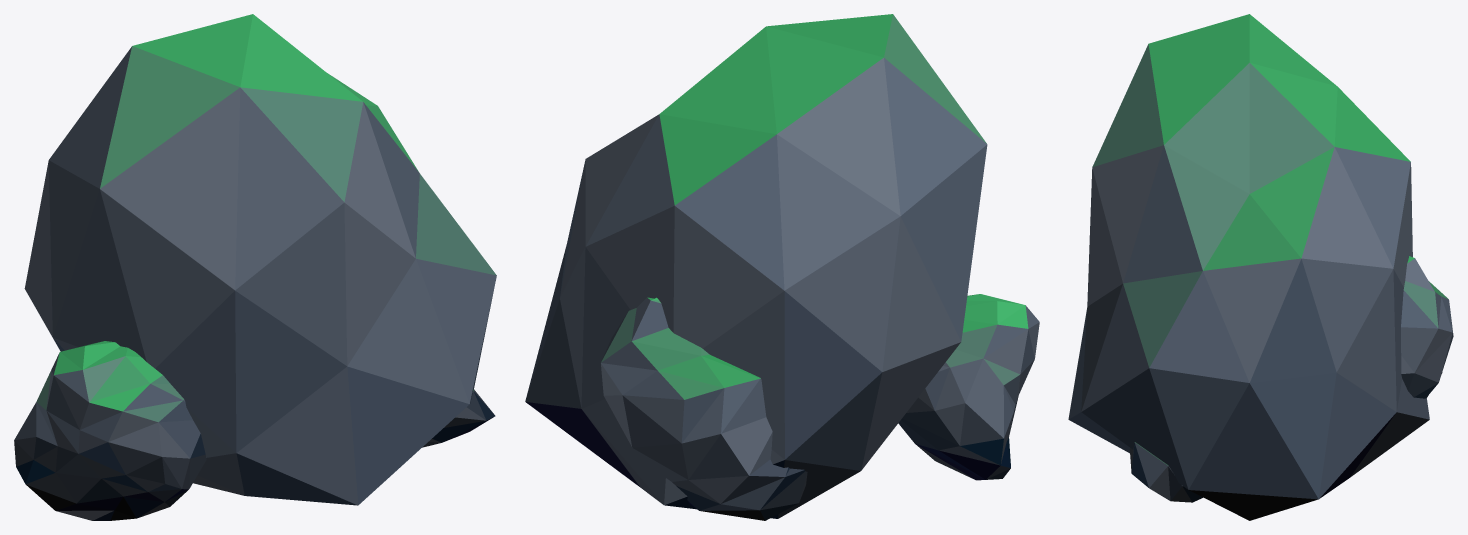
Rendered from batu_boulder_granite_558237.glb.
3 renders of one model, left to right at view 1: azimuth 30°, elevation 25°; view 2: azimuth 150°, elevation 25°; view 3: azimuth 270°, elevation 25°, orthographic. The views are drawn at different scales.
Visible parts, largest first — view 1: Batu_Jeram_Sungai; view 2: Batu_Jeram_Sungai; view 3: Batu_Jeram_Sungai.
Boxes of the visible parts, left/top/right/bottom form: Batu_Jeram_Sungai: left=14, top=14, right=496, bottom=520; Batu_Jeram_Sungai: left=525, top=14, right=1039, bottom=520; Batu_Jeram_Sungai: left=1068, top=14, right=1453, bottom=520.
Bounding box in the file's own units: 3.48 × 3.41 × 3.
